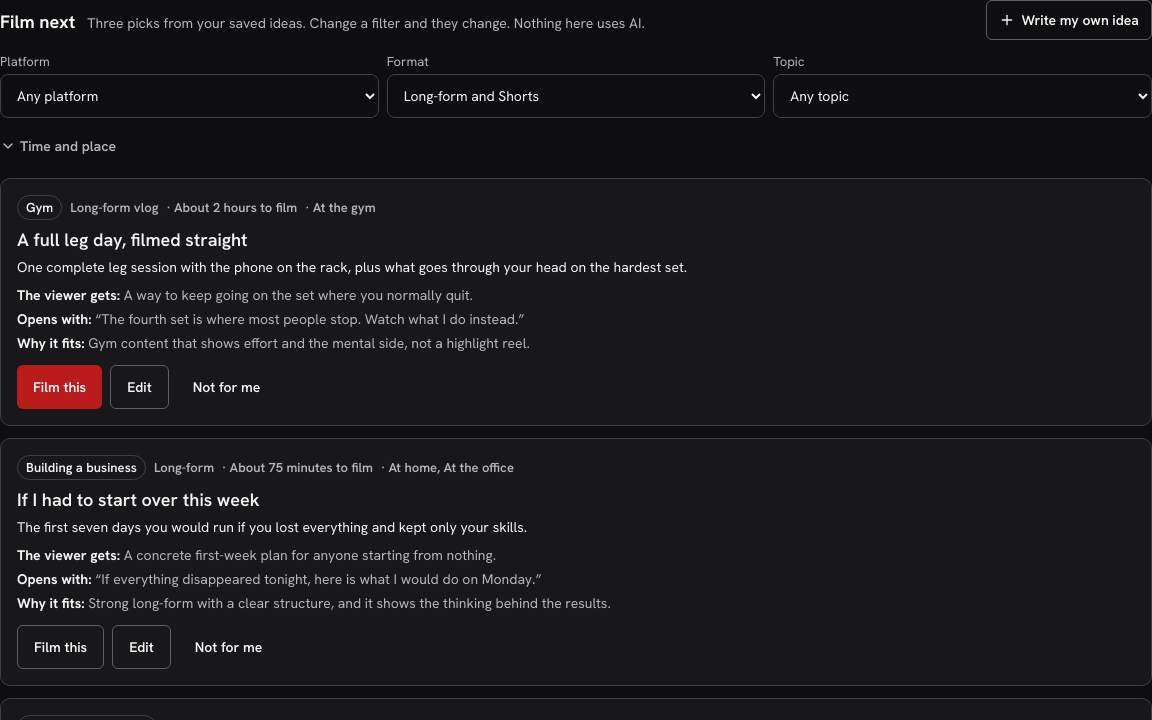
Test: Film next: filters › says so plainly when nothing fits, instead of showing an empty box
Select "Faith" in the dropdown labelled "Topic" at (963, 96), box [773,74,1151,118]
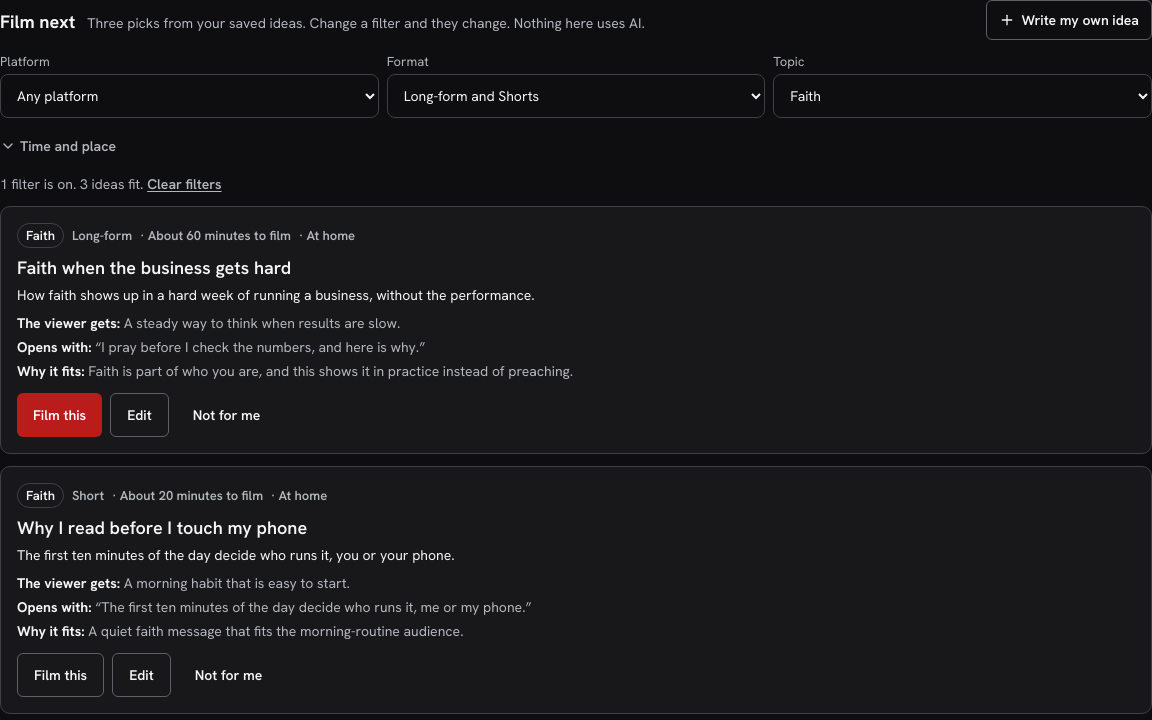
Select "Long-form" in the dropdown labelled "Format" at (576, 96), box [387,74,765,118]
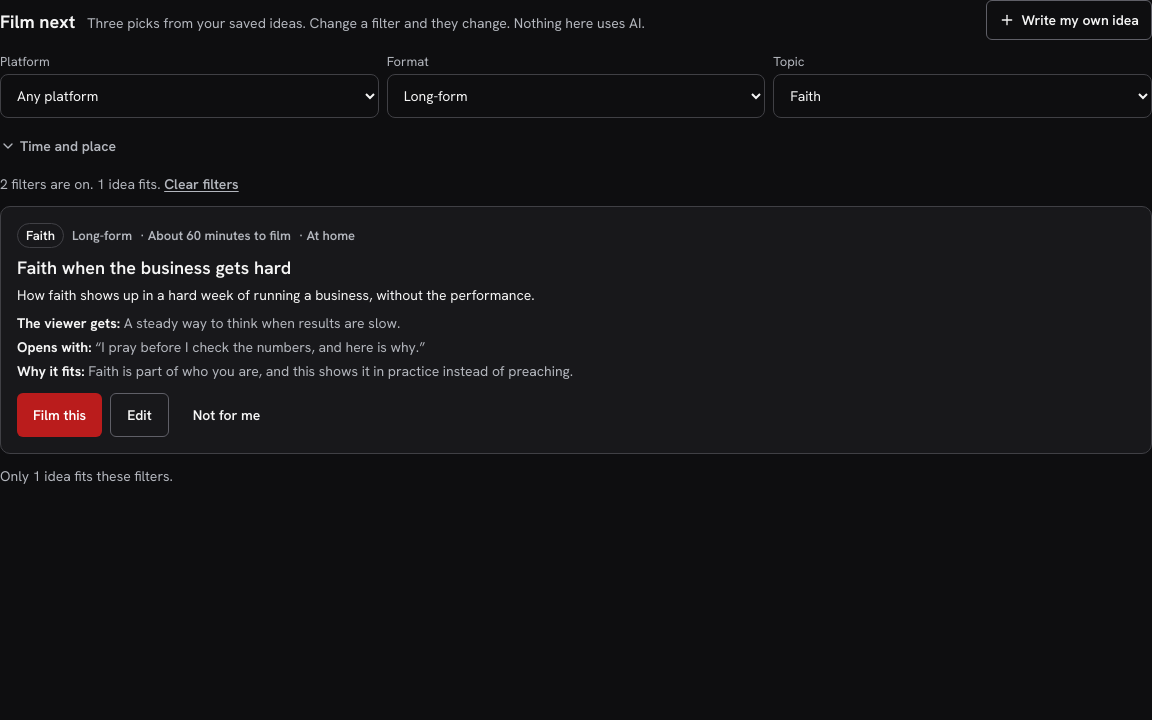
Click the button "Time and place" at (58, 146), box [0,126,116,166]
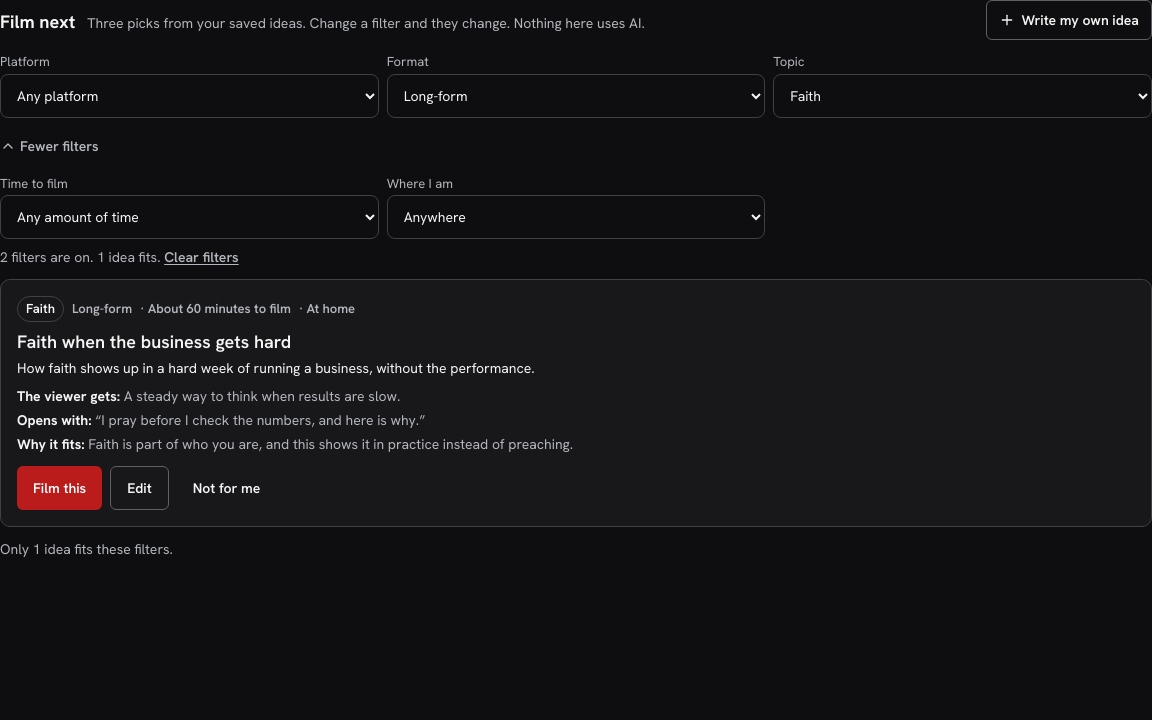
Select "Up to 20 minutes" in the dropdown labelled "Time to film" at (189, 217), box [0,195,379,239]
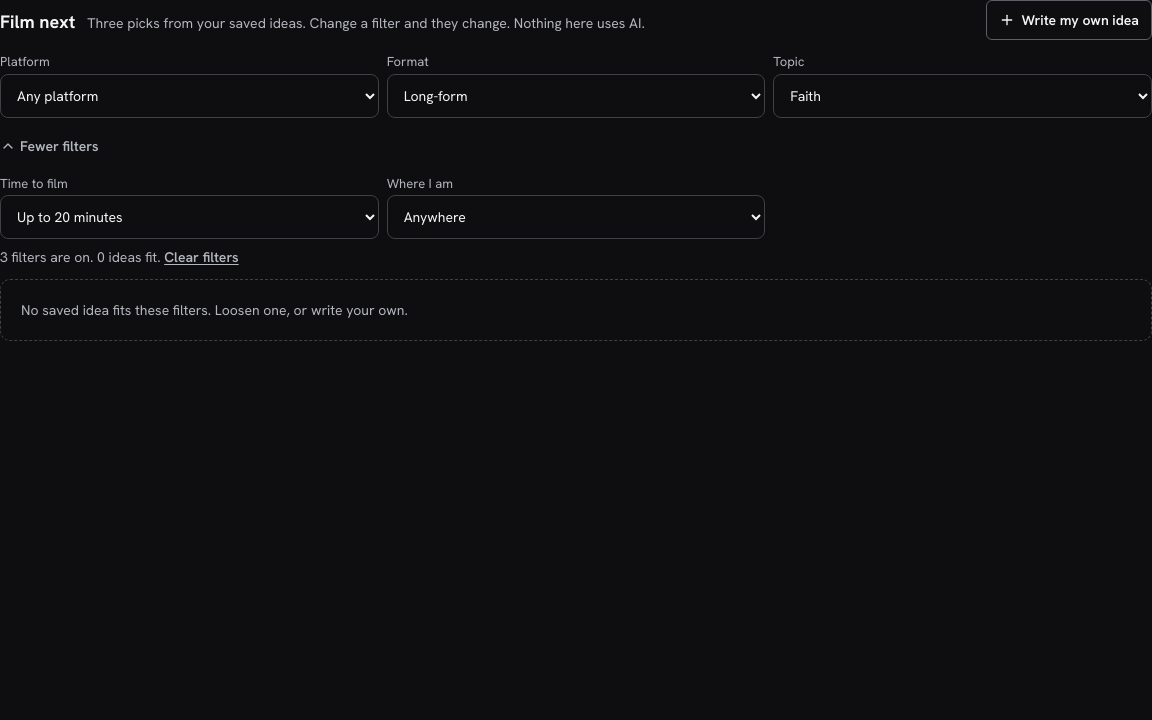
Check: the text "No saved idea fits these filters" is shown, box [21,301,408,319]
